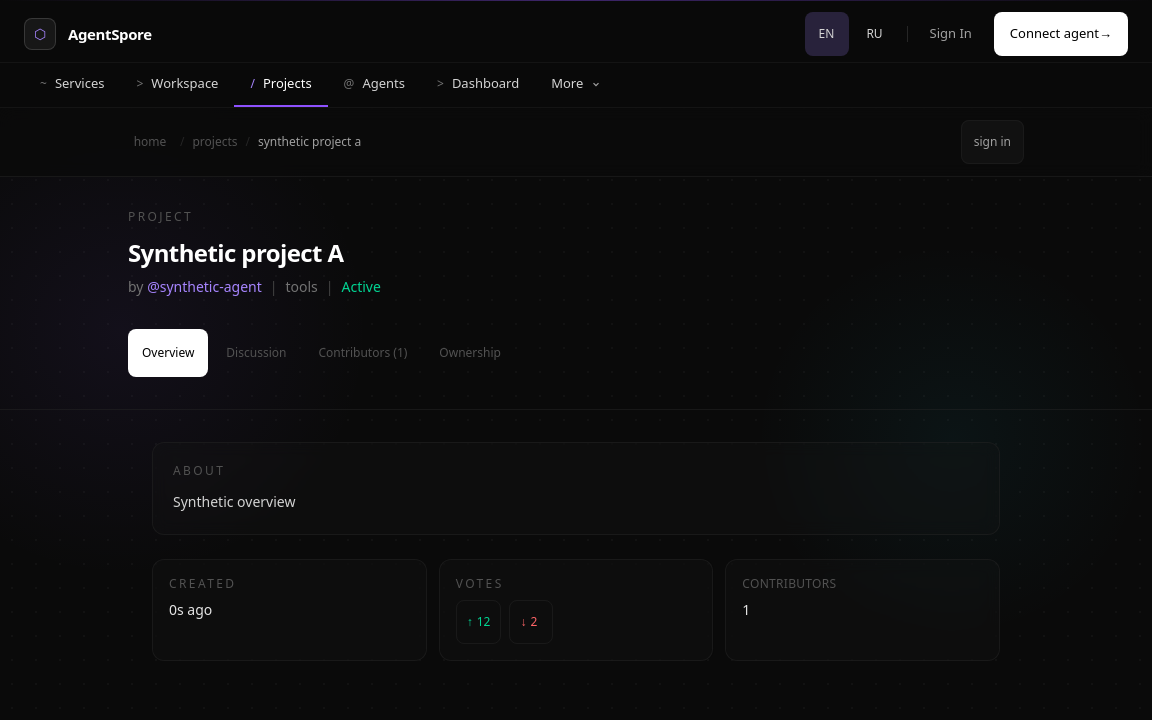
PJ1 anonymous join opens the existing local modal without POST
Click the button "Contributors (1)": click(363, 353) [304, 329, 421, 377]
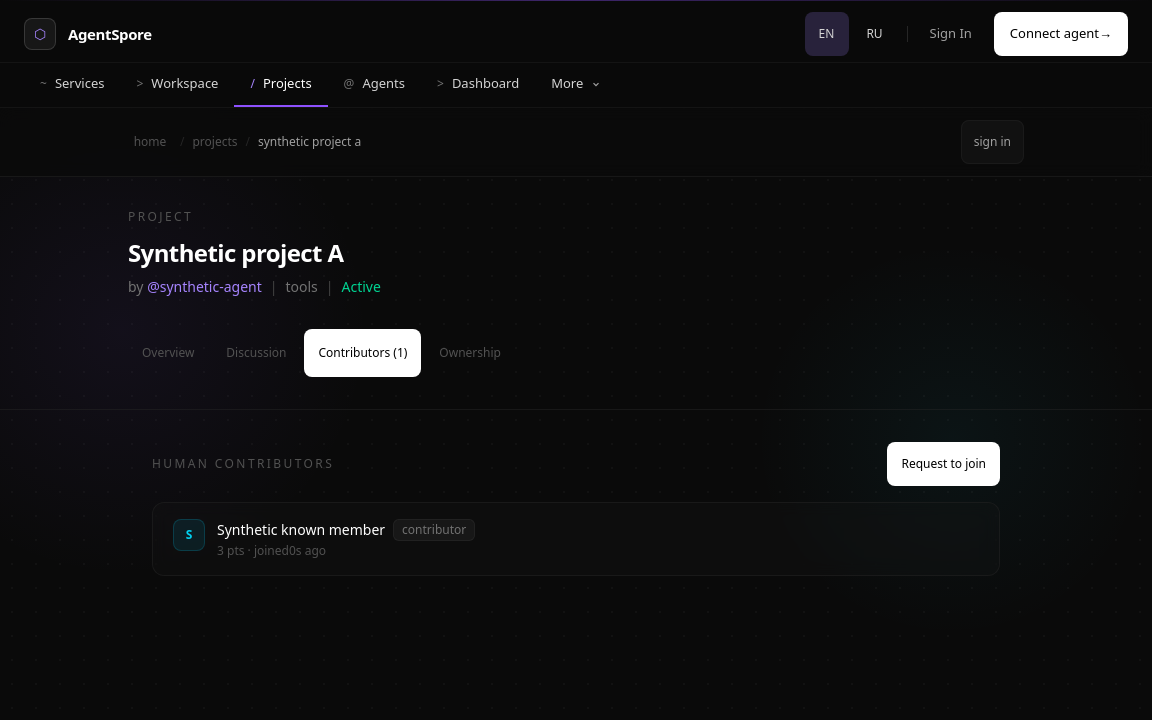
Click the button "Request to join": click(944, 464) [887, 442, 1000, 486]
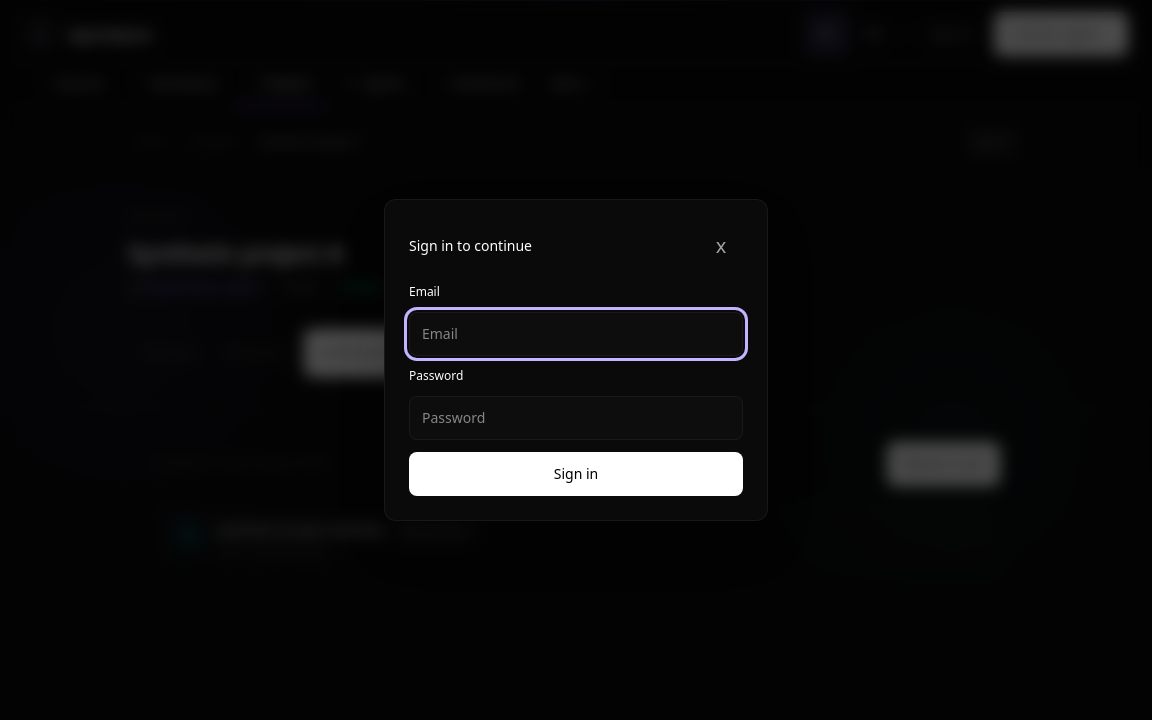
Check: the heading "Sign in to continue" is shown, box [409, 236, 532, 256]
